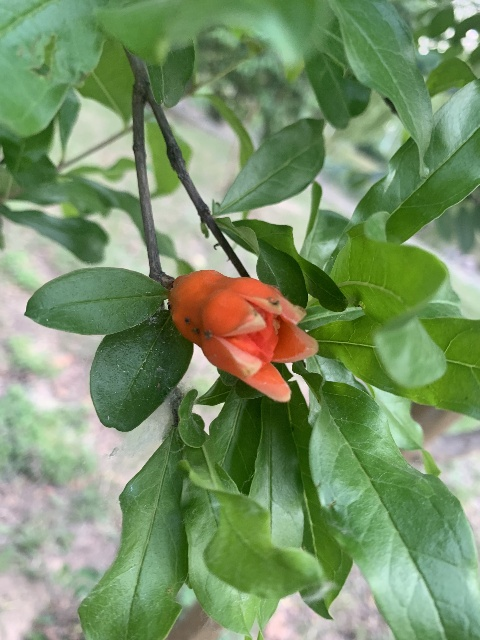flower: (169, 270, 317, 403)
